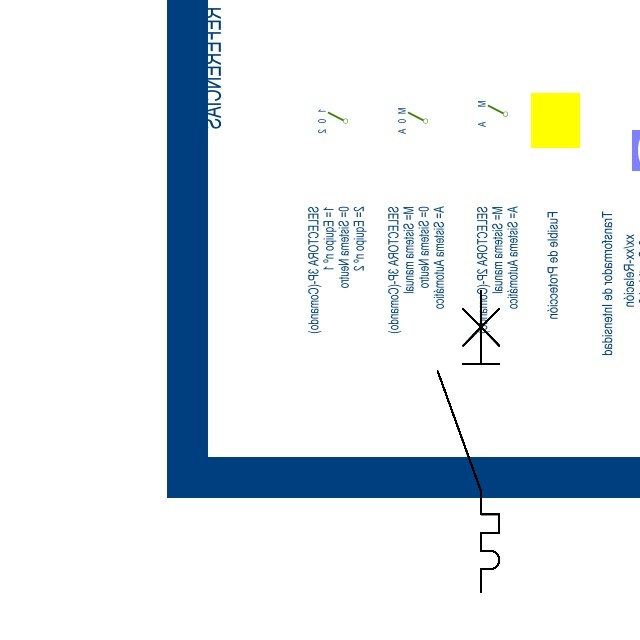interruptor_termomagnetico: (430, 283, 507, 600)
